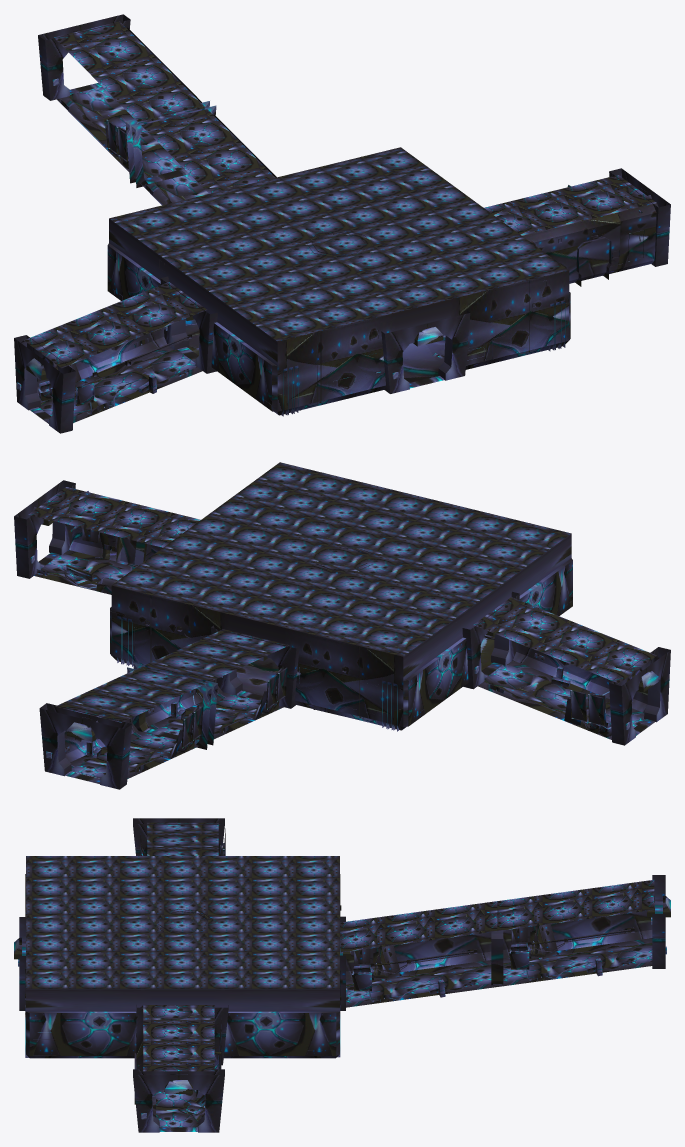
The model's file is Combined_Mesh_root_scene__11_1f1e19ed__ZombiesII_laboratory_11_d_6be3923c_c1f257.obj.
3 renders of one model, top to bottom at view 1: azimuth 30°, elevation 25°; view 2: azimuth 150°, elevation 25°; view 3: azimuth 270°, elevation 25°, orthographic. The views are drawn at different scales.
Size of the model in its own units: 84.66 by 16.88 by 83.67.
291 materials, 291 textured.
